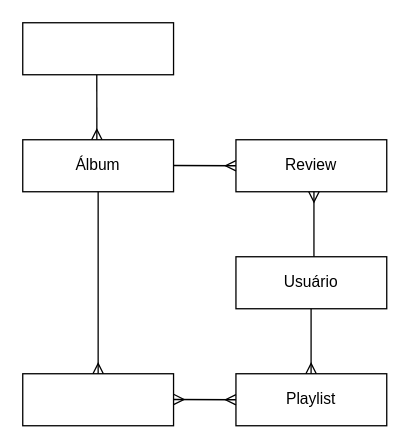
Image size: 410x448. Some labels were removed from this diagram. The shapes that lost their labels are listed below. From the top down, each one's centre as x and y in pixels, then its label:
(x=97, y=48): Artista
(x=97, y=399): Música
